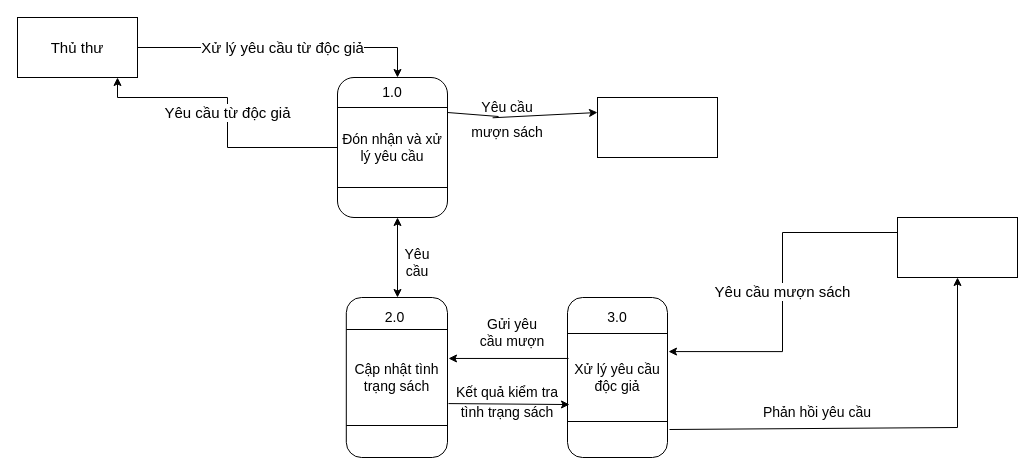
This 1035x475 diagram has some shape labels left out. Each missing label, with the centre of its shape:
"Kho sách" belongs at pixel 657 127.
"Độc giả" belongs at pixel 957 247.
